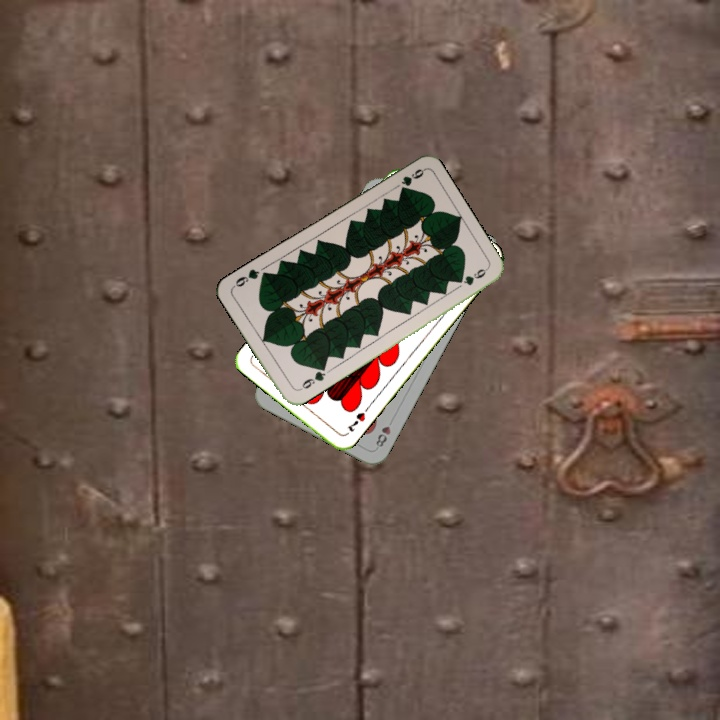G9: (294, 362, 328, 393), (396, 165, 427, 194)
H7: (343, 408, 368, 434)
H8: (371, 422, 393, 450)
